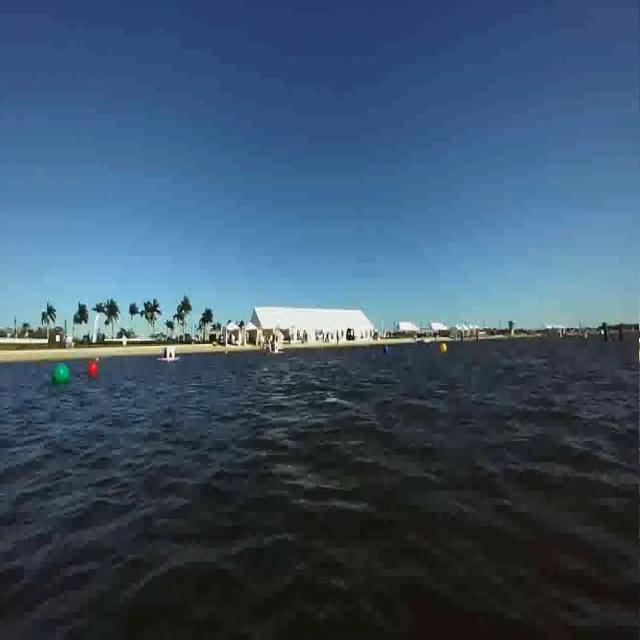green-buoy: (54, 362, 72, 385)
red-buoy: (90, 361, 99, 376)
yellow-buoy: (441, 342, 449, 356)
